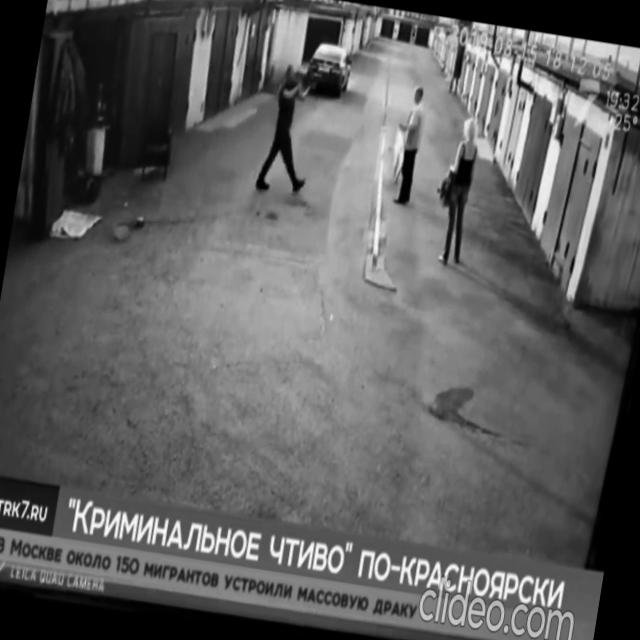gun: (293, 67, 333, 96)
person: (431, 115, 484, 272), (387, 82, 430, 210)
person with a gun: (253, 60, 335, 202)
